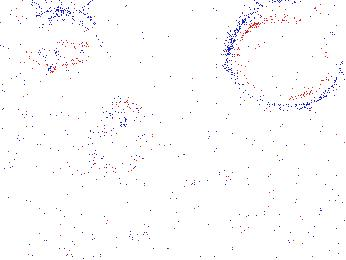moon jellyfish: (229, 4, 342, 106), (21, 8, 101, 66), (103, 100, 157, 177)
